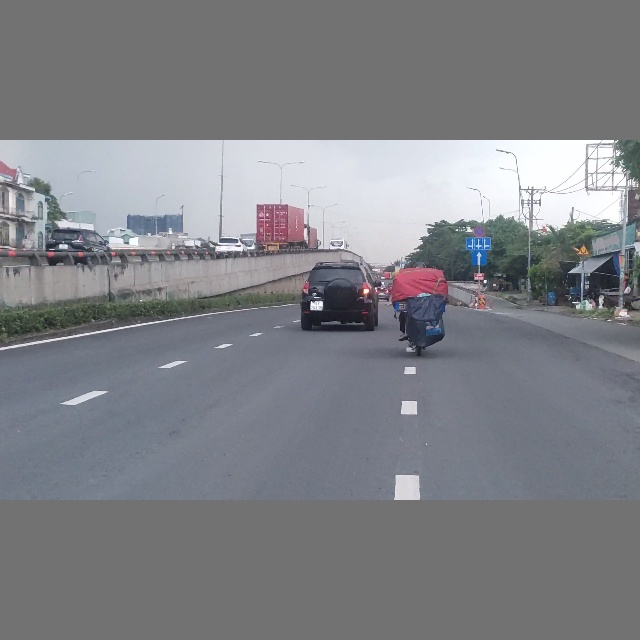I.407a: (471, 249, 487, 265)
P.130: (471, 226, 485, 237)
W.246a: (578, 244, 589, 255)
